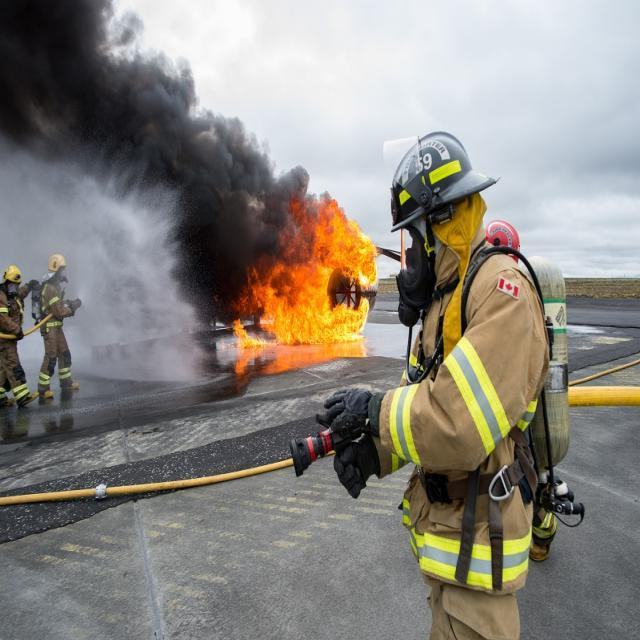Fire: (232, 194, 378, 350)
Smoke: (0, 0, 305, 319), (66, 172, 197, 356)
